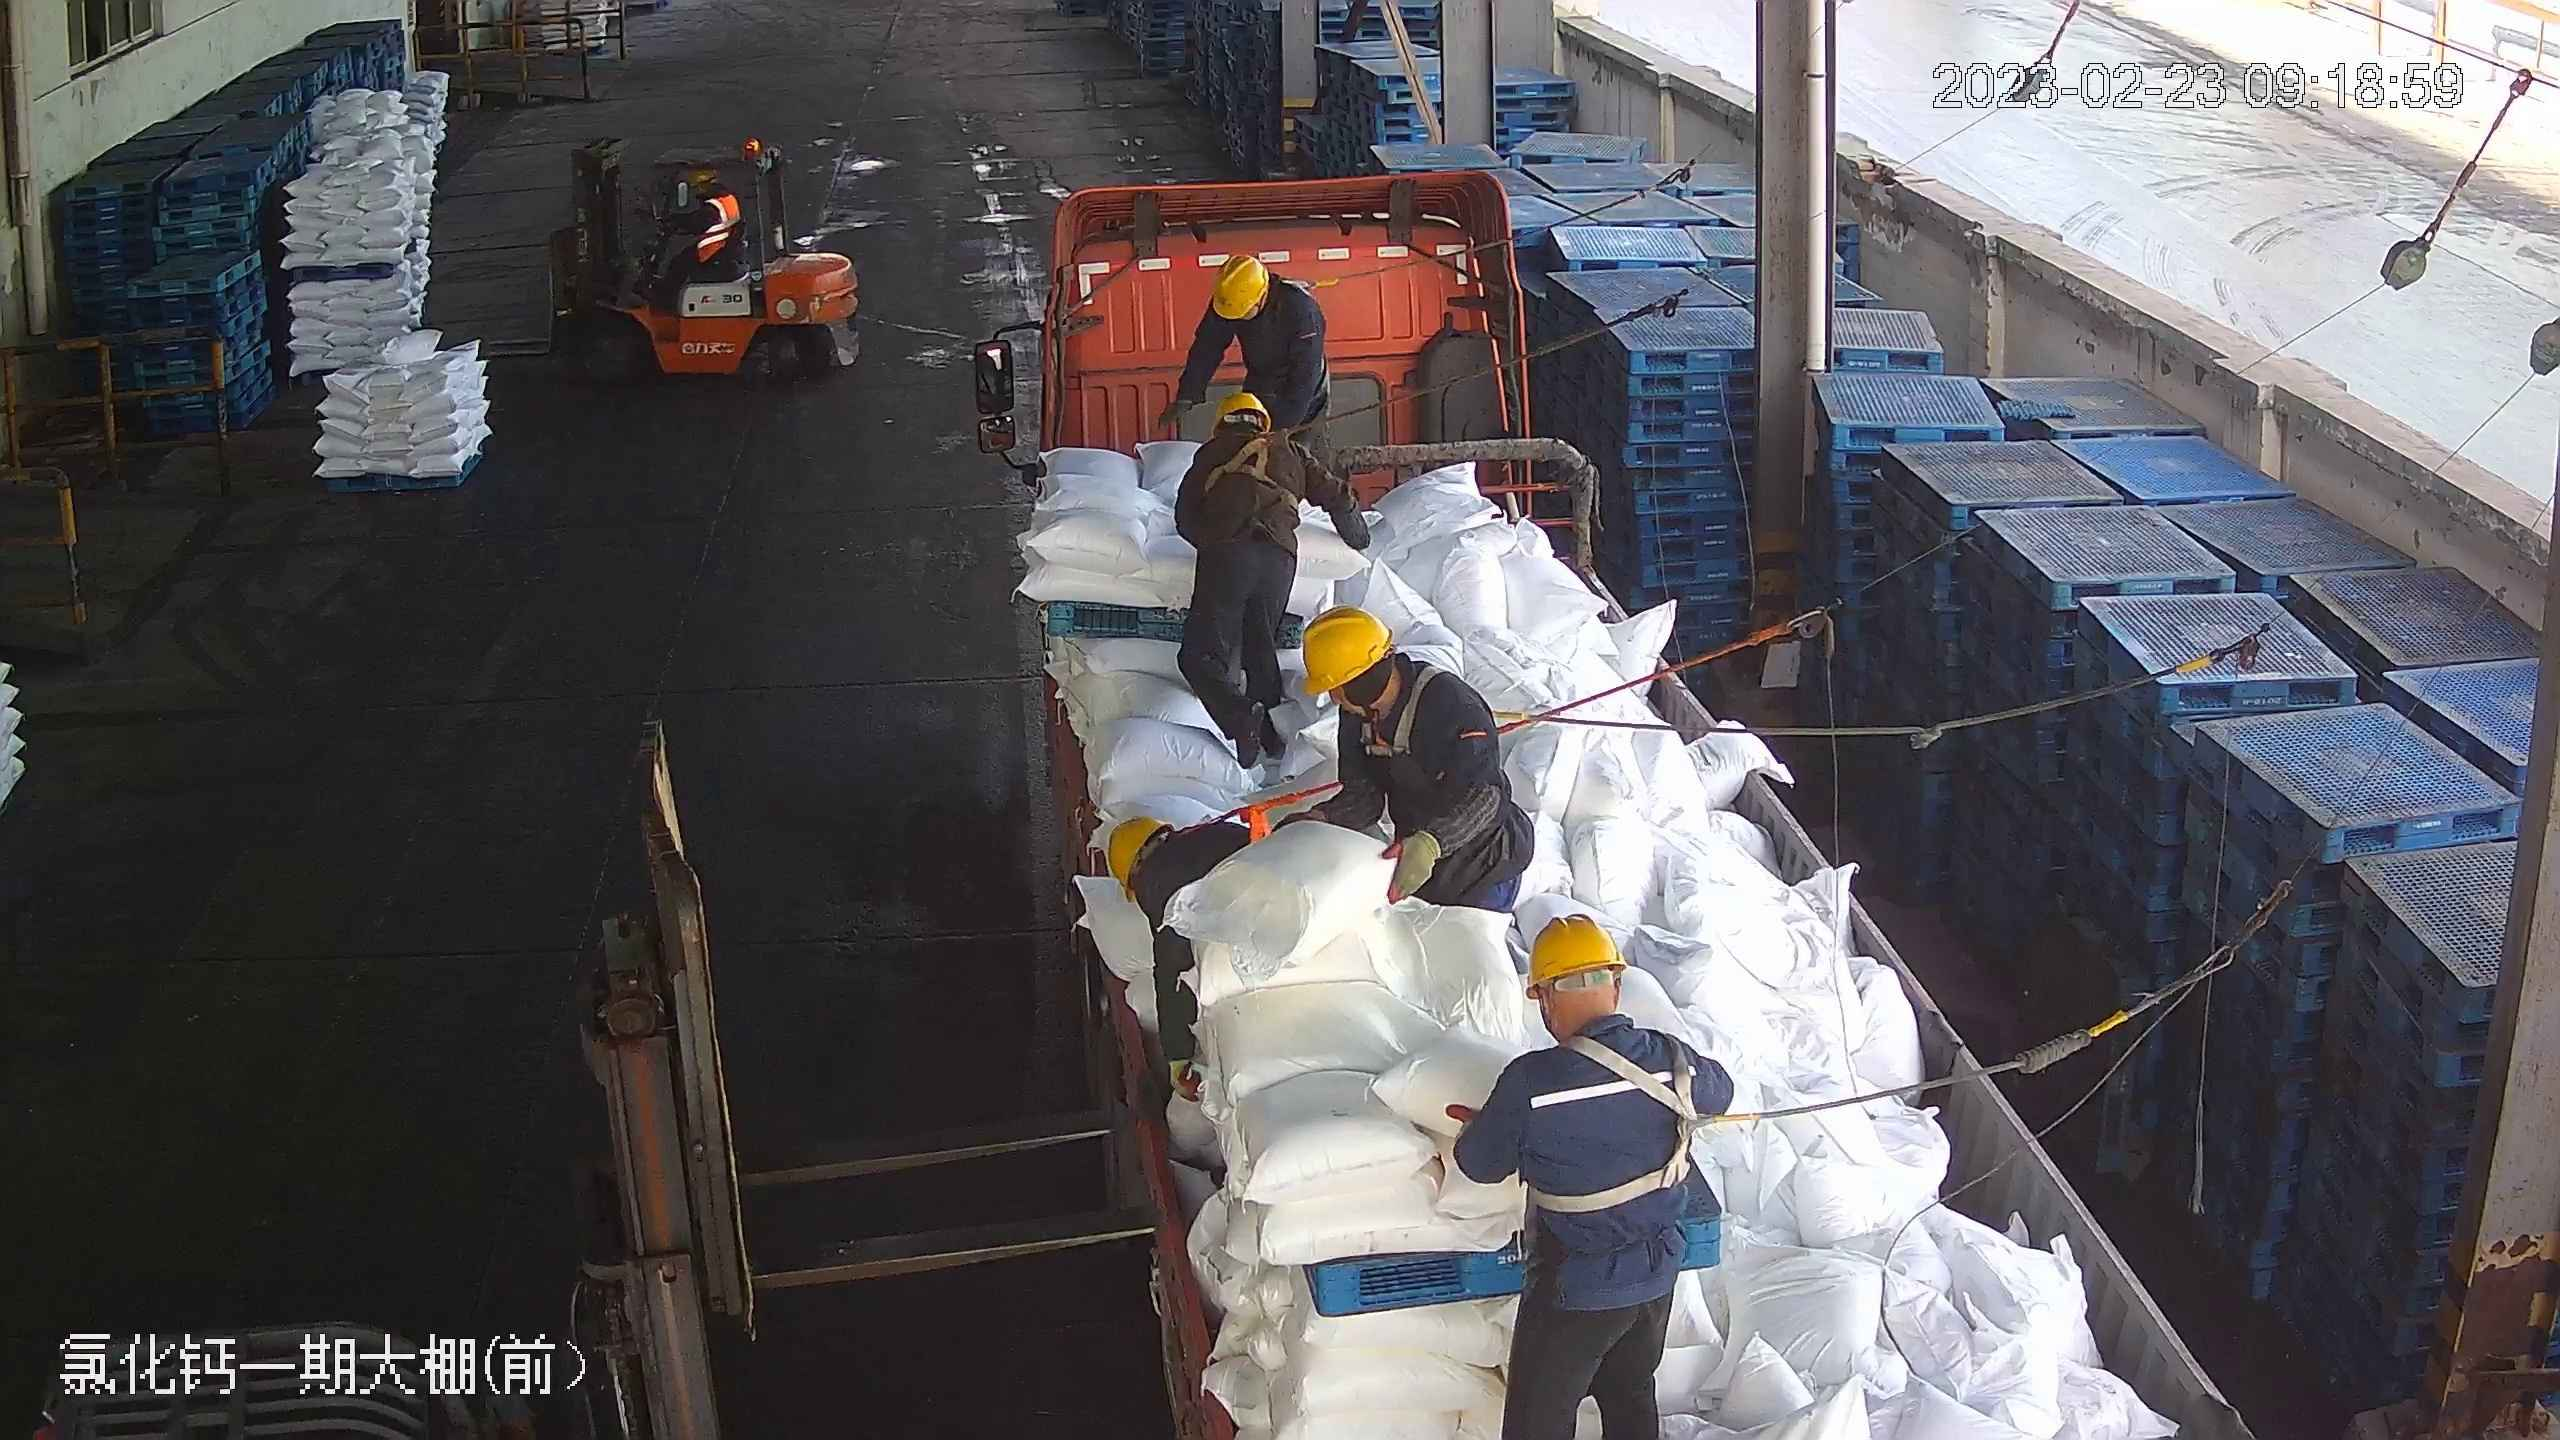belt: (1514, 1025, 1763, 1210), (1333, 663, 1512, 772), (1207, 418, 1315, 499), (1174, 797, 1288, 847), (1275, 268, 1348, 313)
head: (1490, 913, 1711, 1145), (1305, 609, 1482, 770), (1196, 392, 1303, 490), (1205, 256, 1325, 342), (685, 169, 734, 225)
helmet: (1524, 913, 1627, 990), (1304, 606, 1395, 695), (1107, 810, 1170, 897), (1212, 256, 1269, 319), (1211, 388, 1272, 440), (687, 167, 717, 190)
people: (1452, 914, 1725, 1437), (1281, 603, 1521, 921), (1176, 394, 1366, 771), (1175, 252, 1339, 434), (655, 168, 737, 283)
truck: (978, 165, 2261, 1435)
